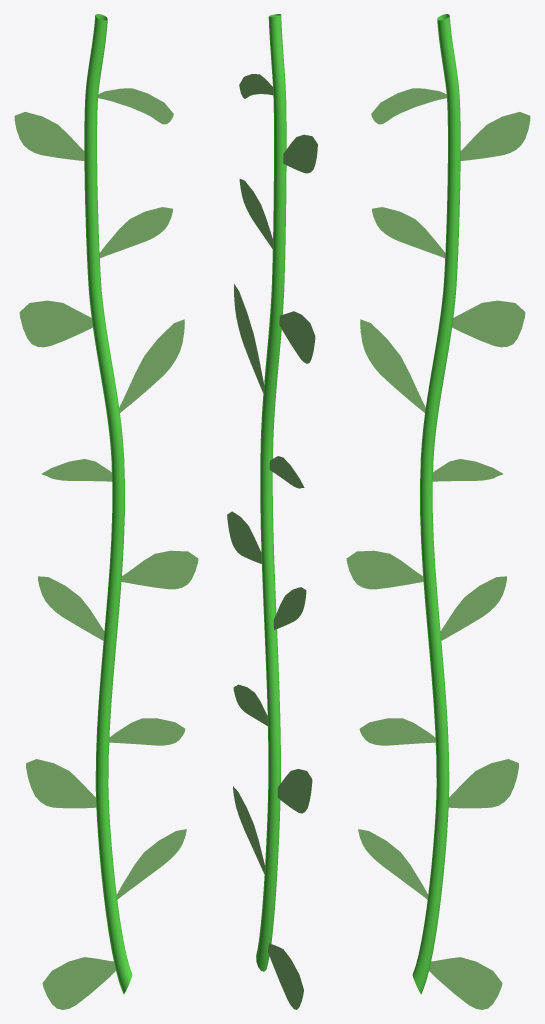
Rendered from Liana.fbx.
The picture shows the model from 3 angles, left to right: view 1: azimuth 90°, elevation 25°; view 2: azimuth 210°, elevation 25°; view 3: azimuth 270°, elevation 25°; orthographic projection.
Parts seen in each view (by area): view 1: BezierCurve.002, BezierCurve.003, BezierCurve.001; view 2: BezierCurve.002, BezierCurve.003, BezierCurve.001; view 3: BezierCurve.002, BezierCurve.003, BezierCurve.001.
Part boxes in pixels (x1,y1,x2,y2): BezierCurve.002: (84,14,132,994); BezierCurve.003: (14,112,115,1009); BezierCurve.001: (98,88,198,899); BezierCurve.002: (256,14,286,971); BezierCurve.003: (268,134,317,1009); BezierCurve.001: (227,74,273,874); BezierCurve.002: (412,14,460,994); BezierCurve.003: (429,112,530,1009); BezierCurve.001: (346,88,446,899).
Size of the model in its own units: 2 by 172 by 28.88.
